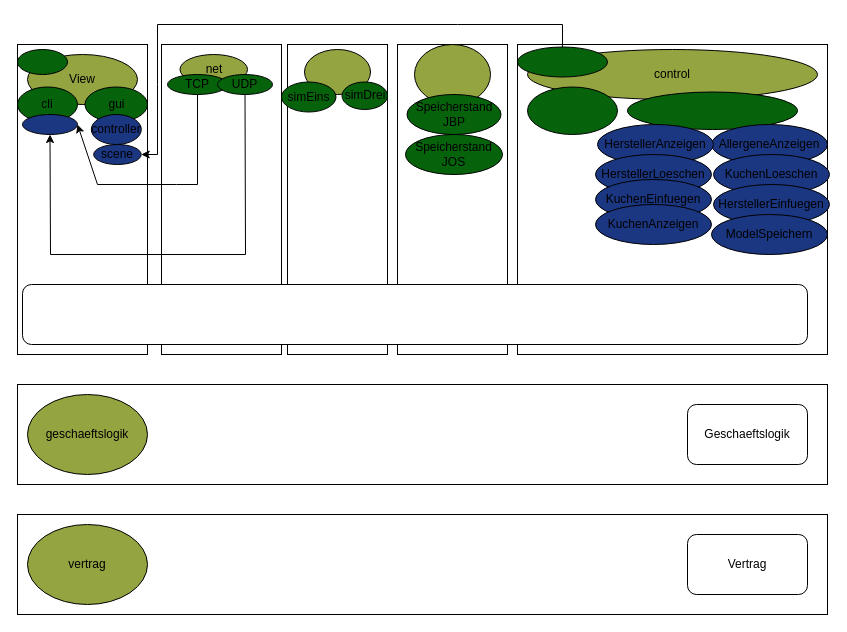
Image size: 847x632. Some labels were removed from this diagram. Here are the shapes that lost their labels. From the top down, the centre of each, then its label:
At [42,61]: "observer".
At [337,71]: "simulation".
At [452,74]: "serialisierung".
At [562,61]: "singelton".
At [50,124]: "modus".
At [572,110]: "listener".
At [712,110]: "infrastructure".
At [415,314]: "Benutzeroberflaeche".
